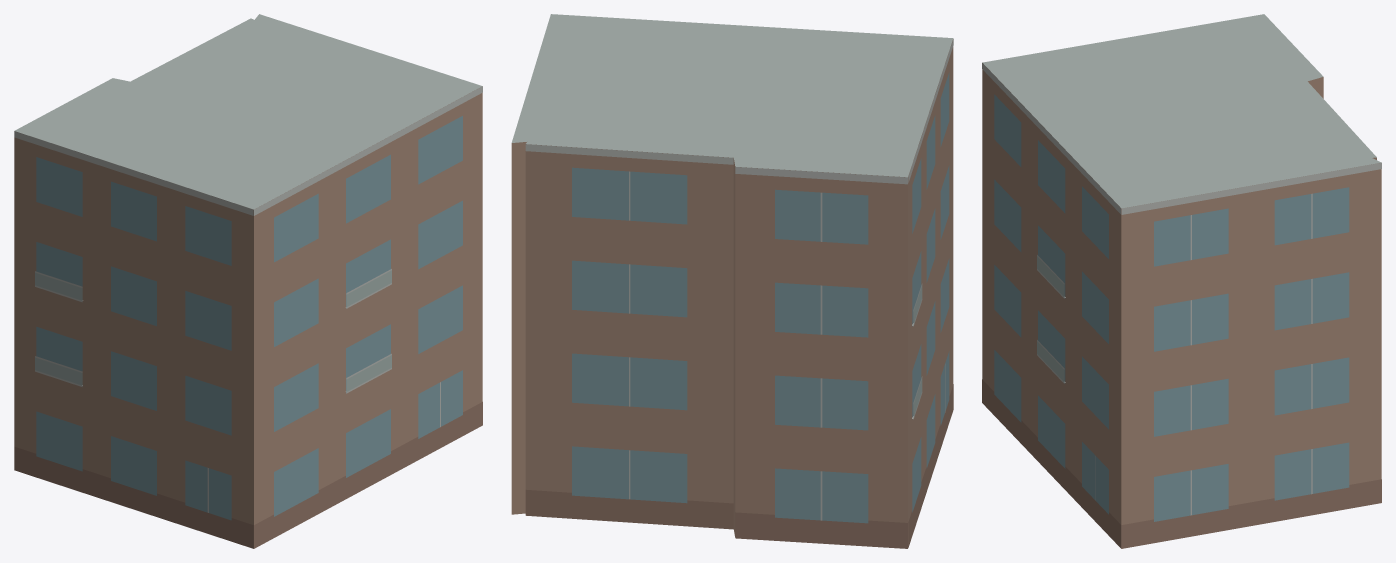
Rendered from survey-upis-32998066.glb.
3 renders of one model, left to right at view 1: azimuth 30°, elevation 25°; view 2: azimuth 150°, elevation 25°; view 3: azimuth 270°, elevation 25°, orthographic. The views are drawn at different scales.
Visible parts, largest first — view 1: survey-upis-32998066.tmp; view 2: survey-upis-32998066.tmp; view 3: survey-upis-32998066.tmp.
Part boxes in pixels (x1,y1,x2,y2): survey-upis-32998066.tmp: (14, 14, 482, 548); survey-upis-32998066.tmp: (511, 14, 953, 548); survey-upis-32998066.tmp: (982, 14, 1381, 548).
Size of the model in its own units: 15.69 by 12.8 by 13.62.
